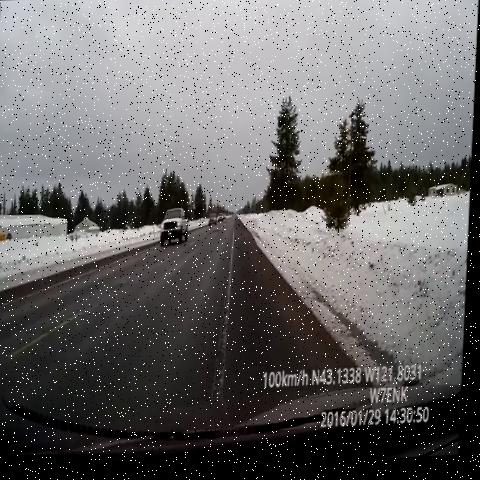pothole: (210, 223, 231, 245)
